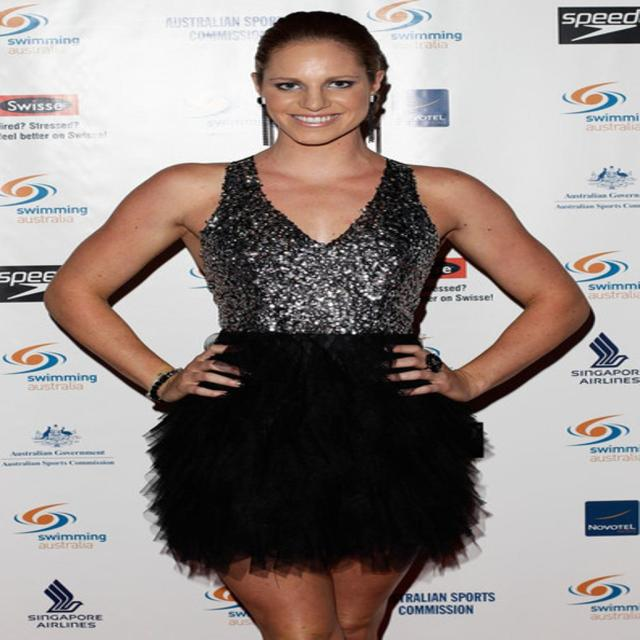Face: (258, 29, 402, 151)
